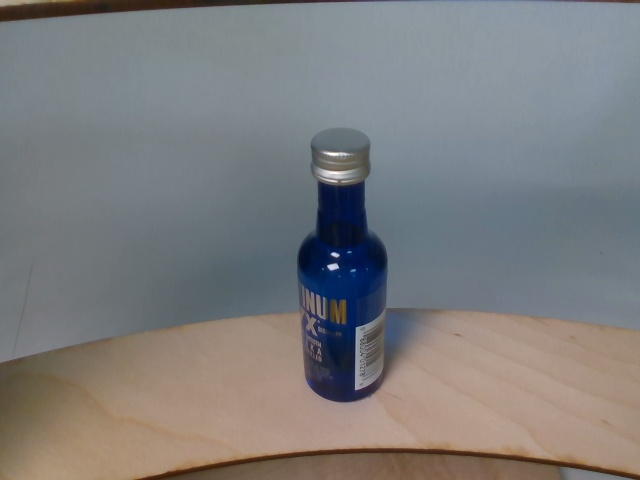tonic_water: (299, 129, 391, 404)
